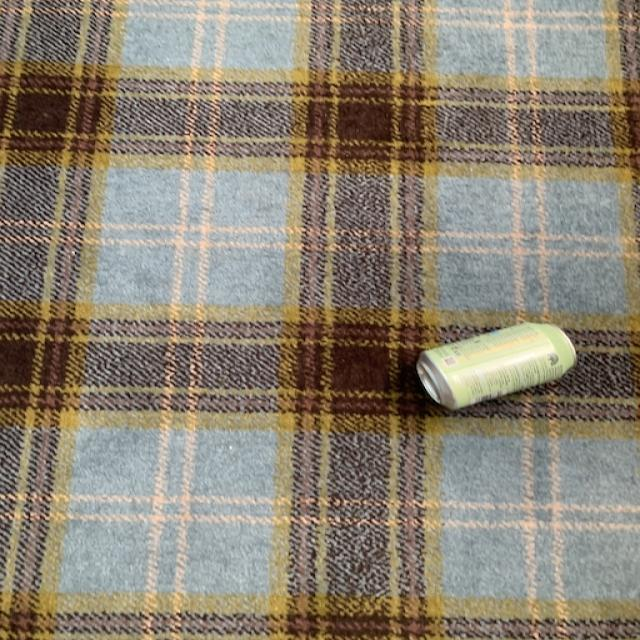litter: (412, 320, 582, 412)
